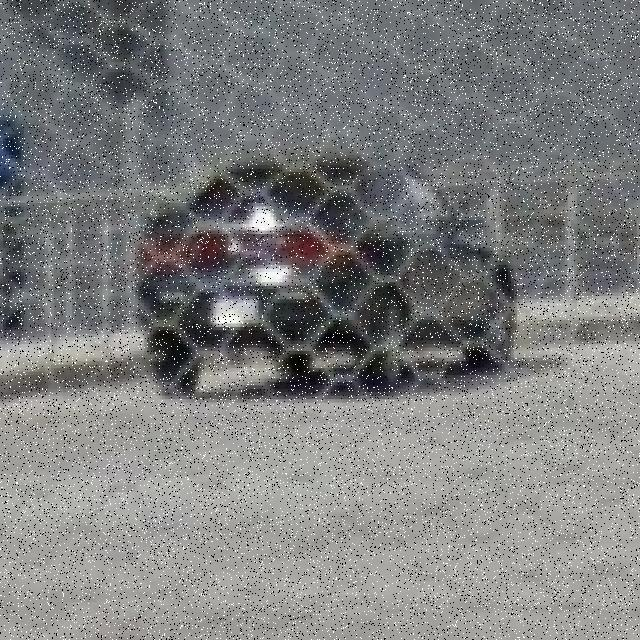cars: (135, 149, 521, 392)
